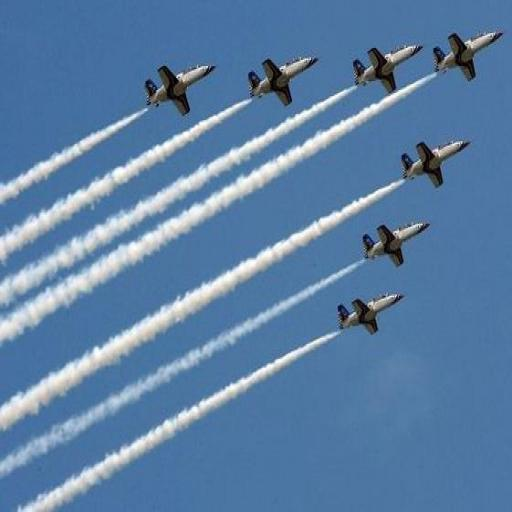aircraft: (144, 63, 218, 120), (352, 43, 426, 97), (431, 30, 506, 83), (249, 54, 320, 108), (401, 139, 474, 190), (363, 219, 432, 271), (336, 292, 403, 337)
